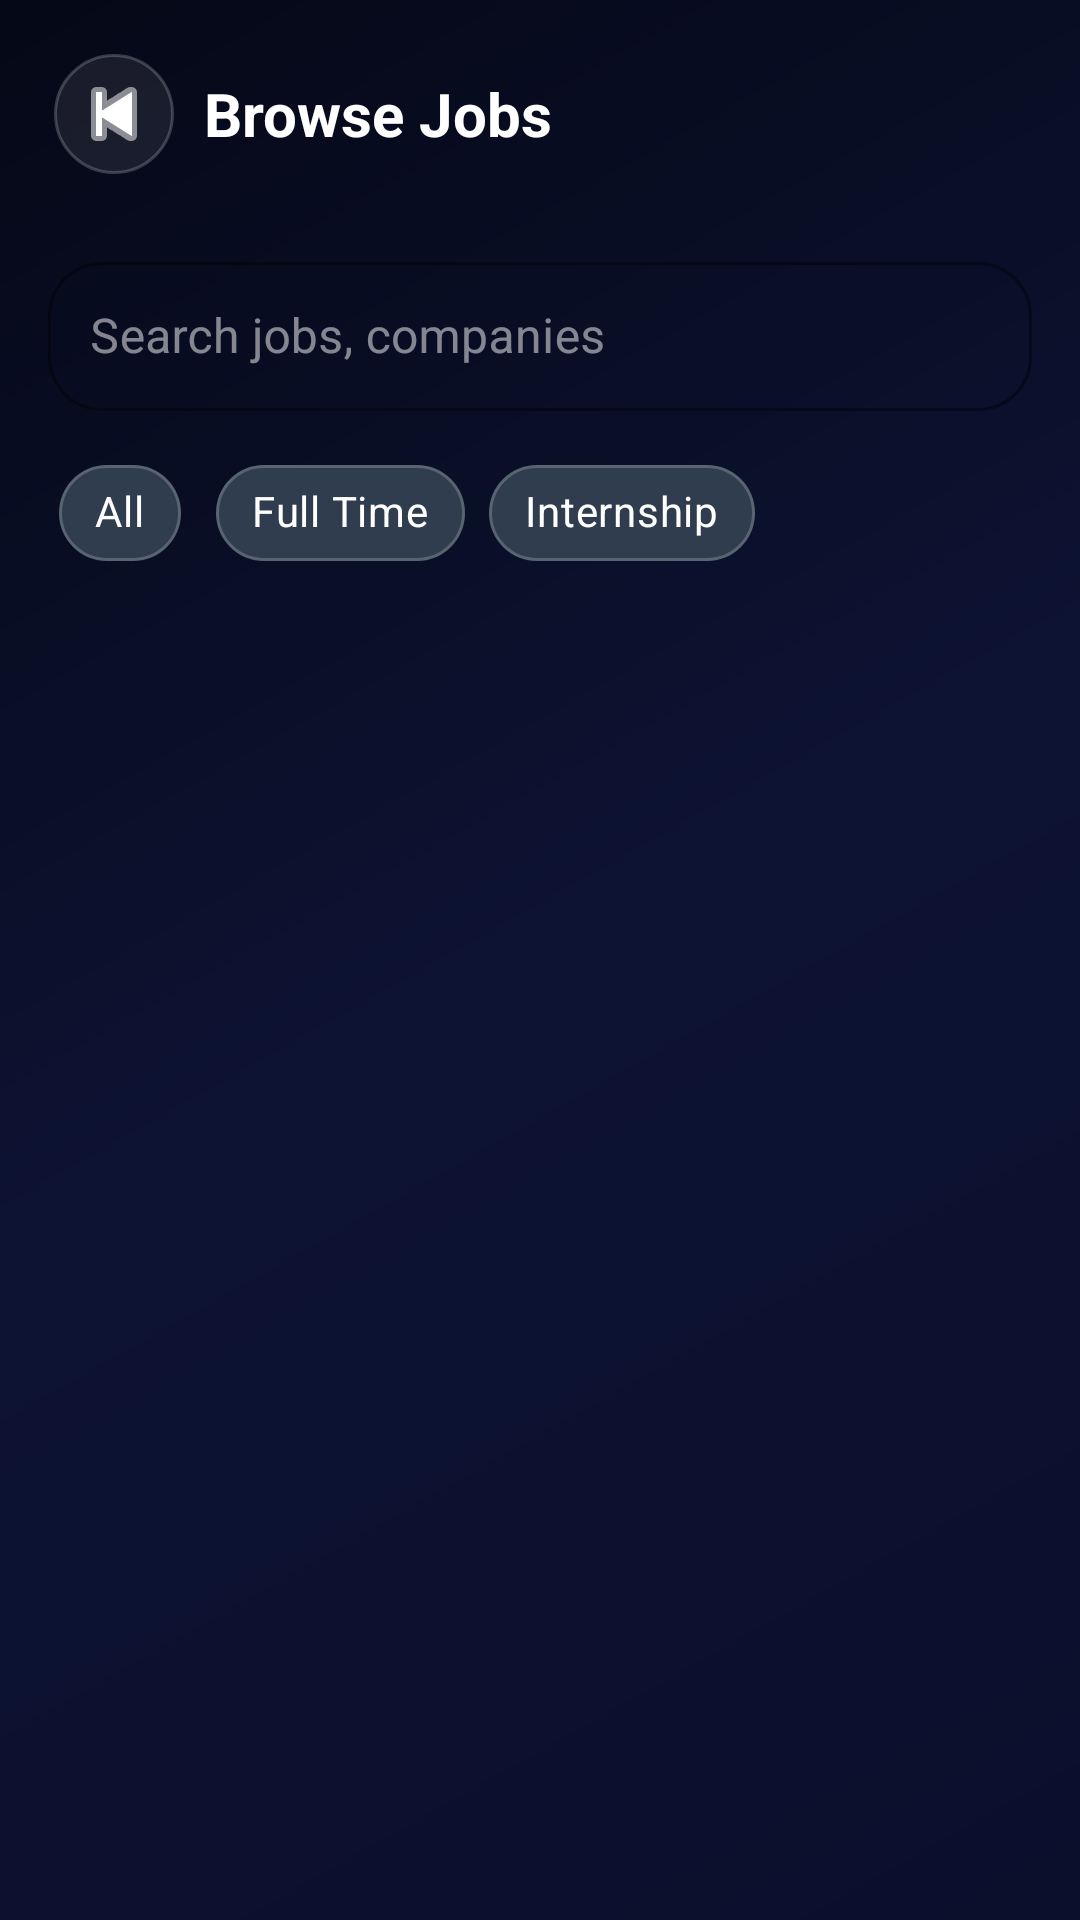

Icons on this 1080×1920 Android screen, each with the point to tap as (x,y):
Back: (114,114)
